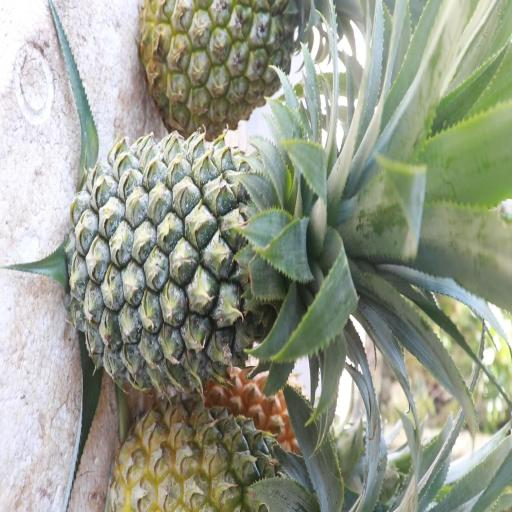------------------------------: (140, 0, 316, 128), (113, 401, 314, 512)
